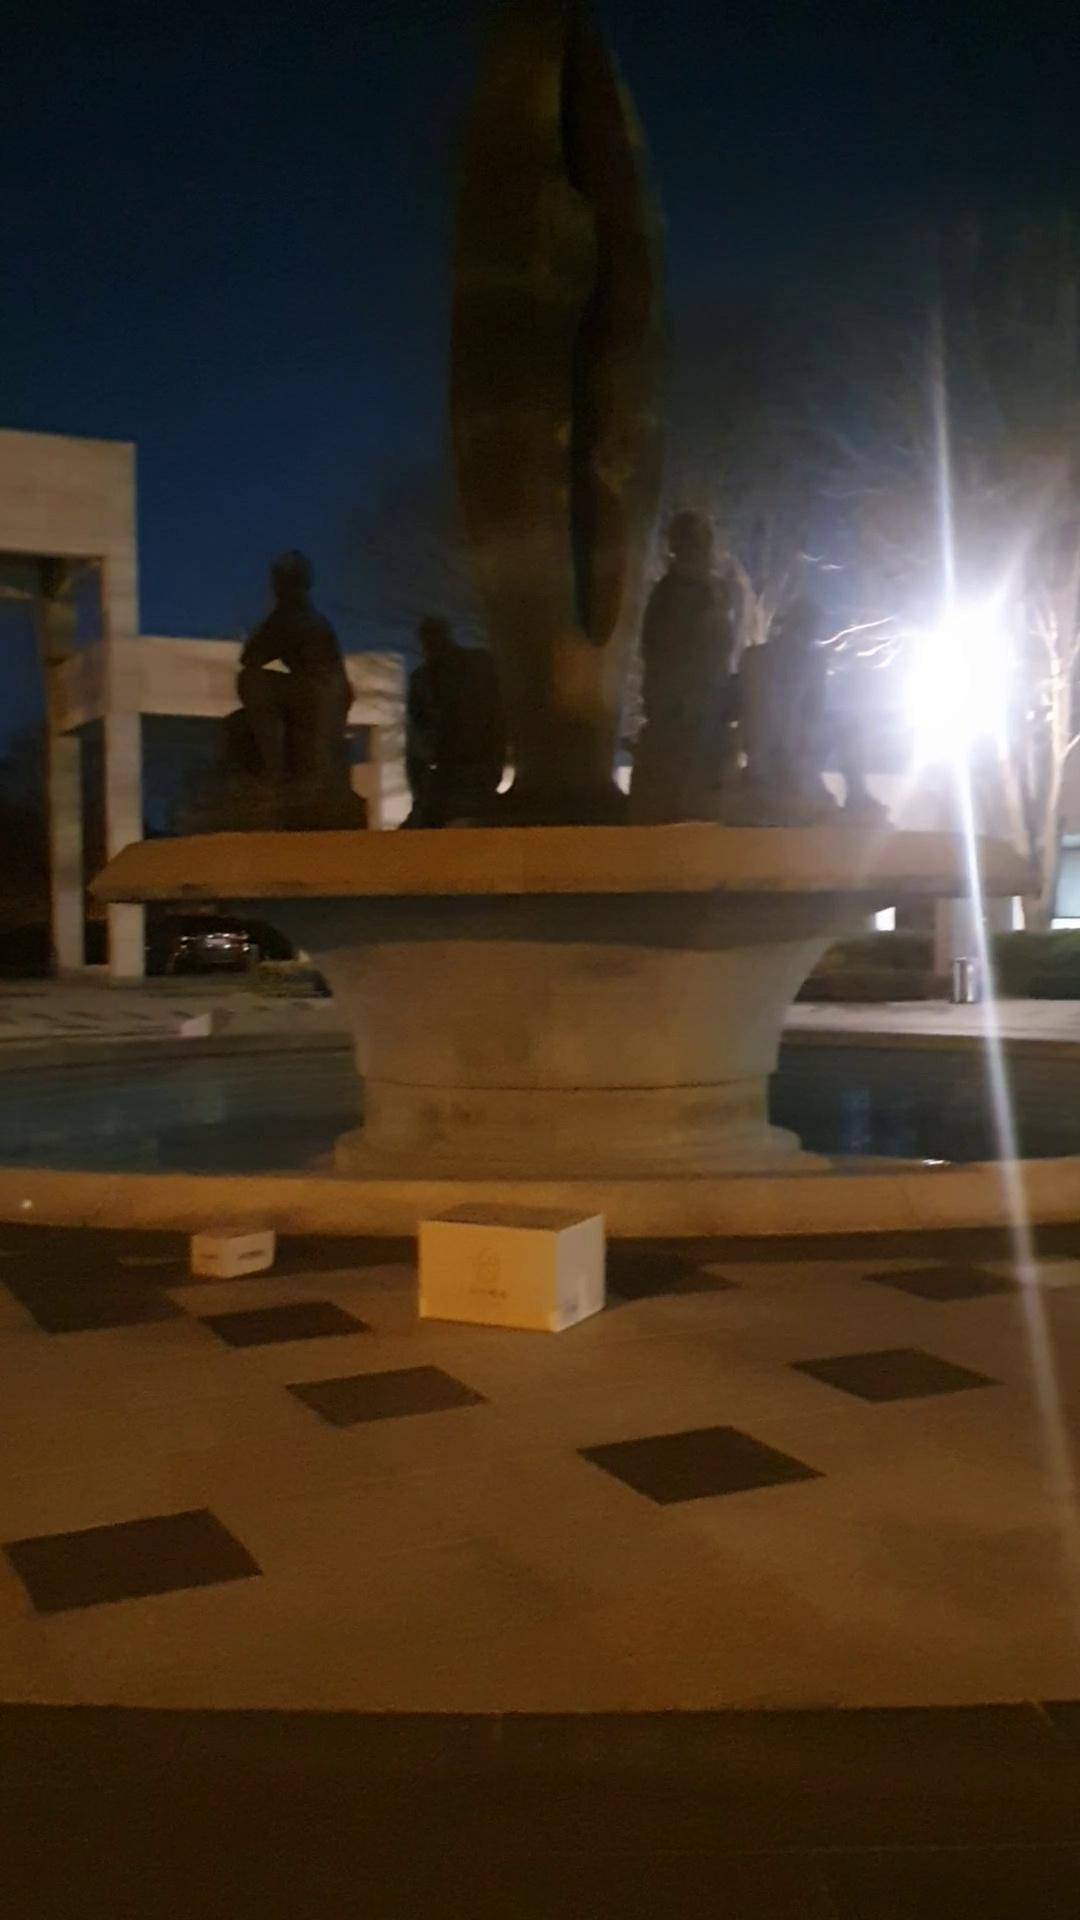Box: (401, 1189, 615, 1342), (171, 1208, 295, 1288)
